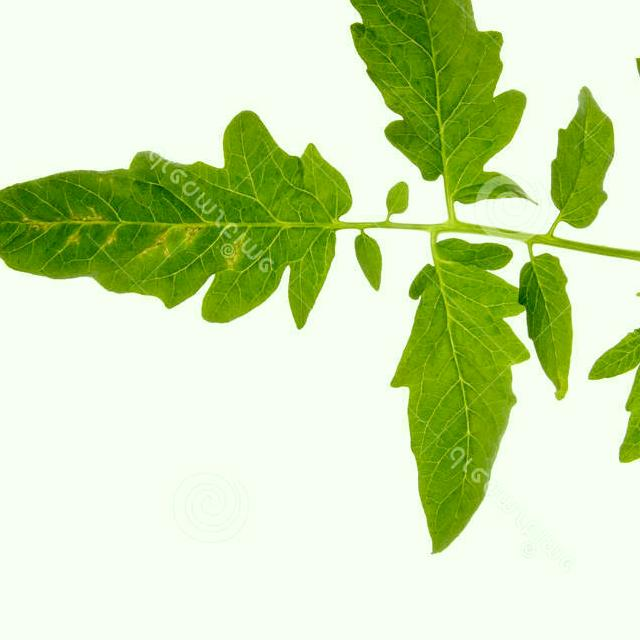Tomato leaf: (0, 70, 358, 350), (300, 0, 557, 229), (393, 218, 544, 600), (569, 280, 640, 640), (627, 0, 640, 246)
